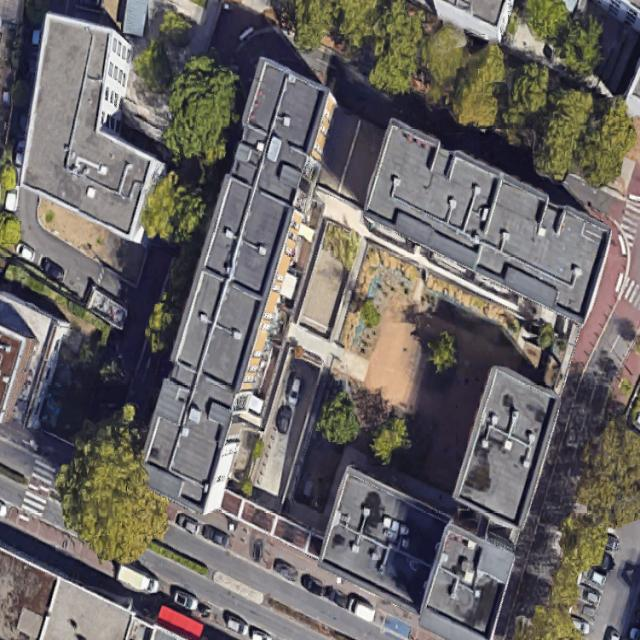immeuble: (83, 64, 628, 621), (311, 341, 562, 640), (0, 12, 191, 243), (0, 549, 180, 639)
